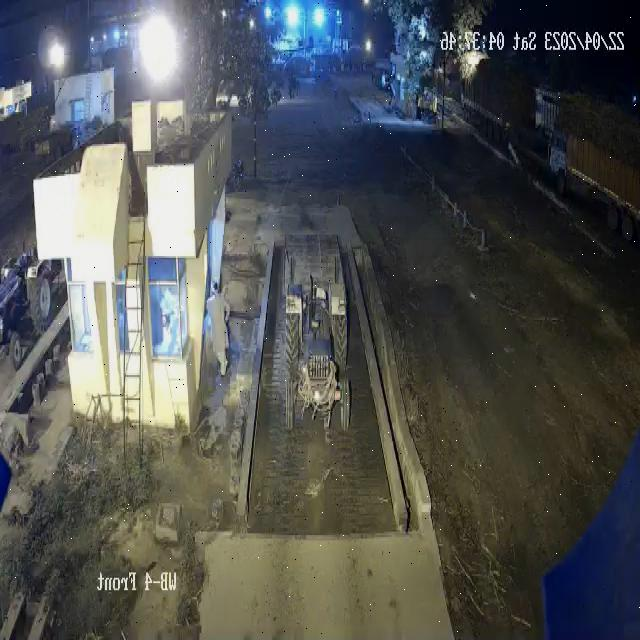Tratores - v5 YOLO V8L 2024-11-13: (278, 270, 354, 448), (0, 240, 55, 385)
